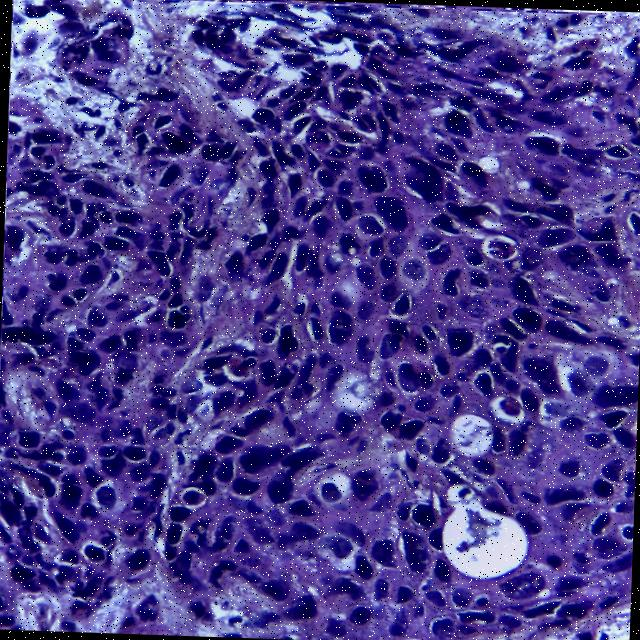Nuclear Hyperchromatism: (0, 0, 640, 640)
